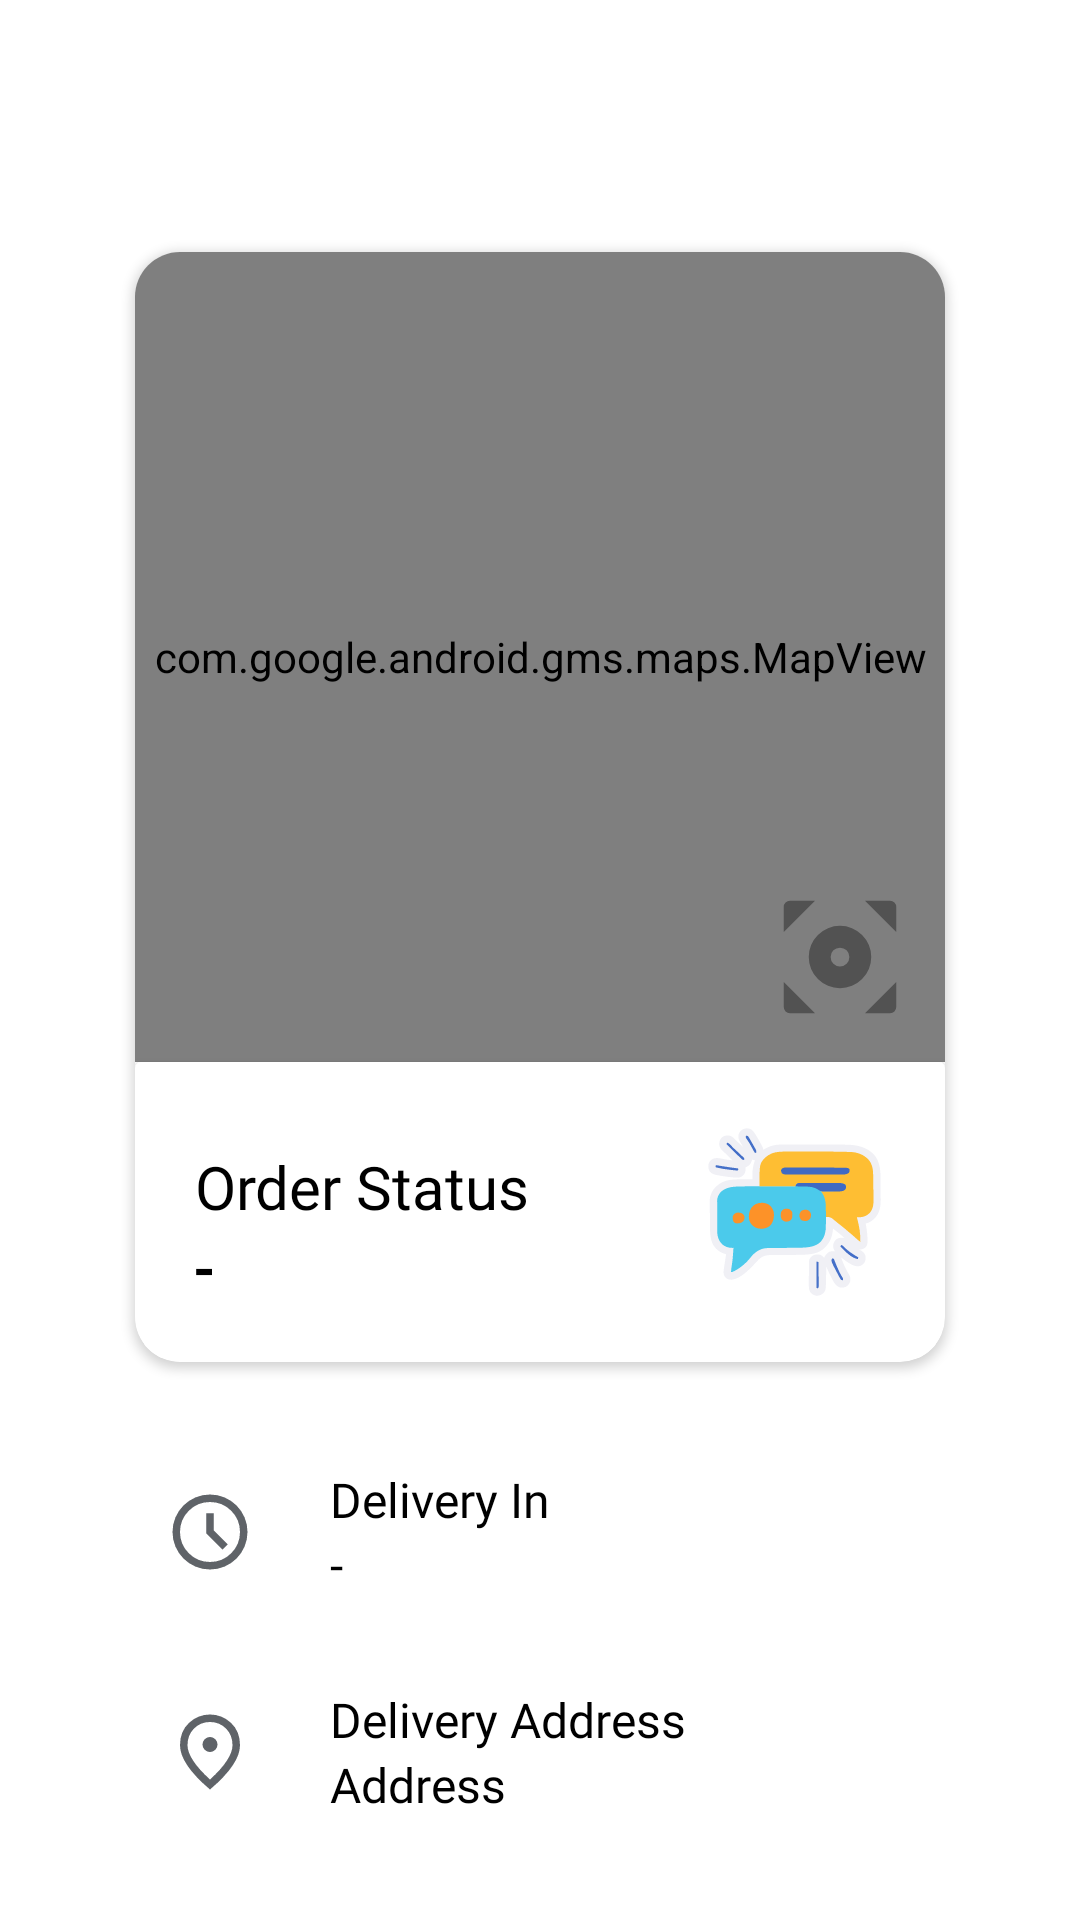

Point at icon controls on the screen. Image size 1080x1920, points as point (x, y).
Focus Button: point (840, 957)
place: point (210, 1752)
time: point (210, 1532)
